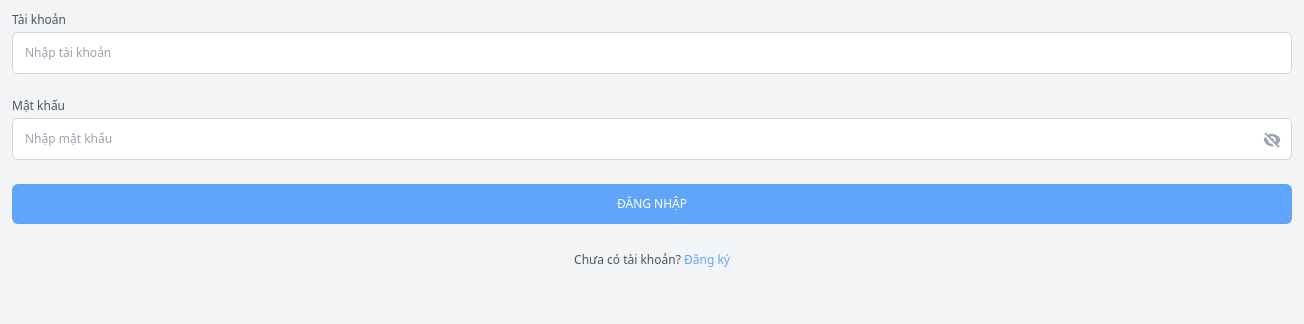
Test Component <FormSignIn /> › Render Component <FormSignIn /> with empty input submit
The width and height of the screenshot is (1304, 324).
Step 1. Click the button with test id "form-signin-button" → [652, 204], box [12, 184, 1292, 224]
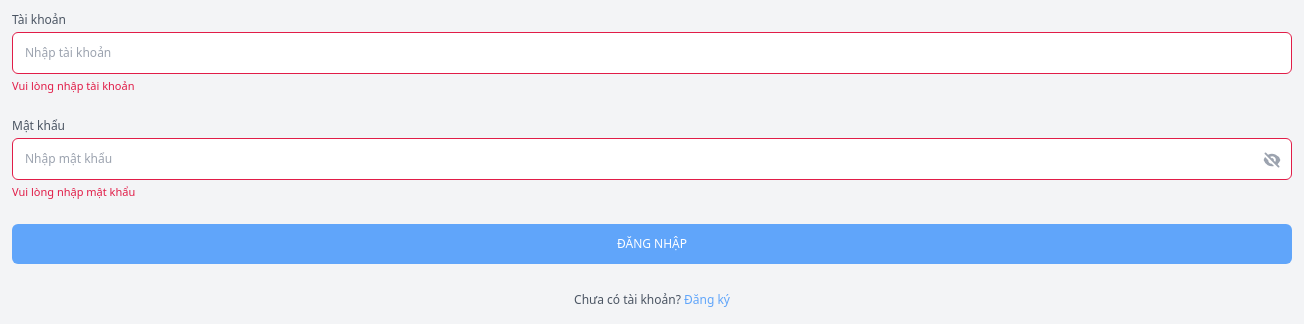
Check: the text with test id "input-username-error" reads "Vui lòng nhập tài khoản", box [12, 78, 134, 93]
Check: the text with test id "input-password-error" reads "Vui lòng nhập mật khẩu", box [12, 184, 135, 199]
